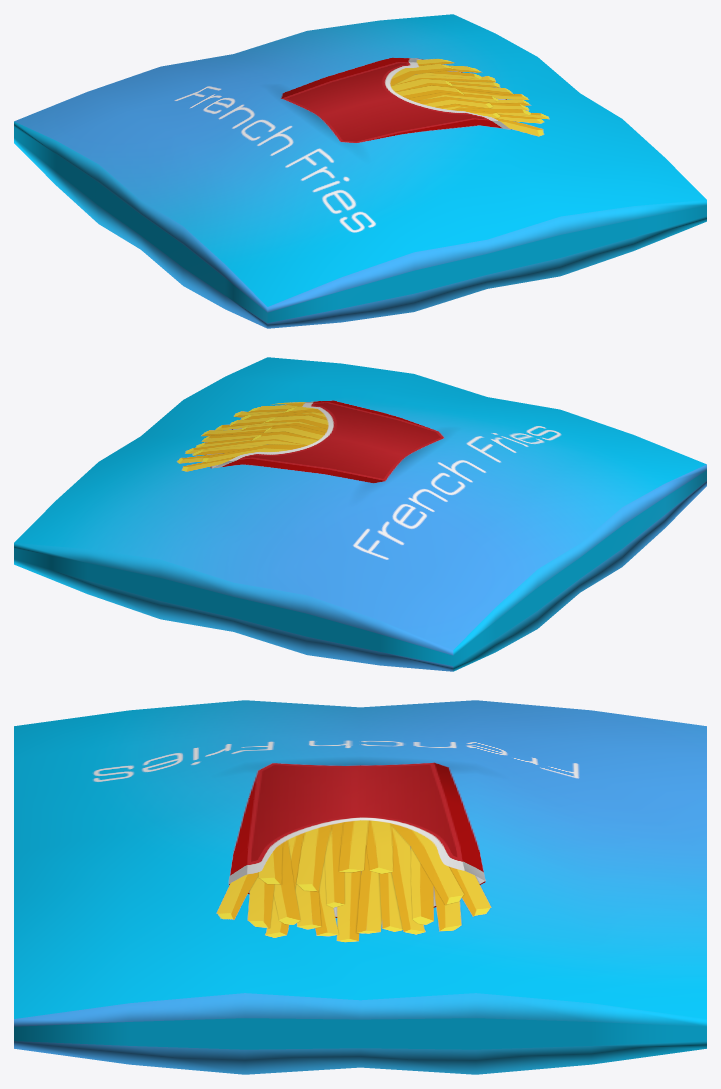
Rendered from mesh_fries_packaged.fbx.
3 views of the same model, one above another, from view 1: azimuth 30°, elevation 25°; view 2: azimuth 150°, elevation 25°; view 3: azimuth 270°, elevation 25° (orthographic). The views are drawn at different scales.
Visible parts, largest first — view 1: mesh__fries_packaged; view 2: mesh__fries_packaged; view 3: mesh__fries_packaged.
Boxes of the visible parts, x1=… form: mesh__fries_packaged: x1=14, y1=14, x2=706, y2=328; mesh__fries_packaged: x1=14, y1=357, x2=706, y2=671; mesh__fries_packaged: x1=14, y1=700, x2=706, y2=1074.
Size of the model in its own units: 74.59 by 22.41 by 74.59.
